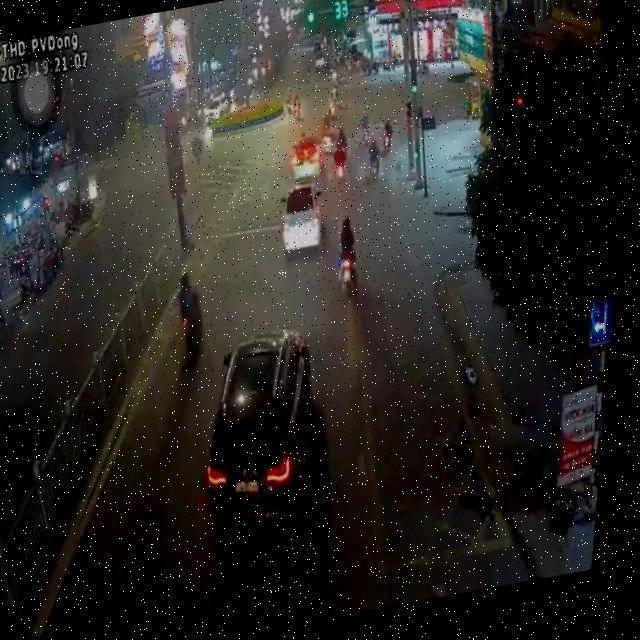Green: (407, 62, 424, 98), (307, 13, 317, 28)
